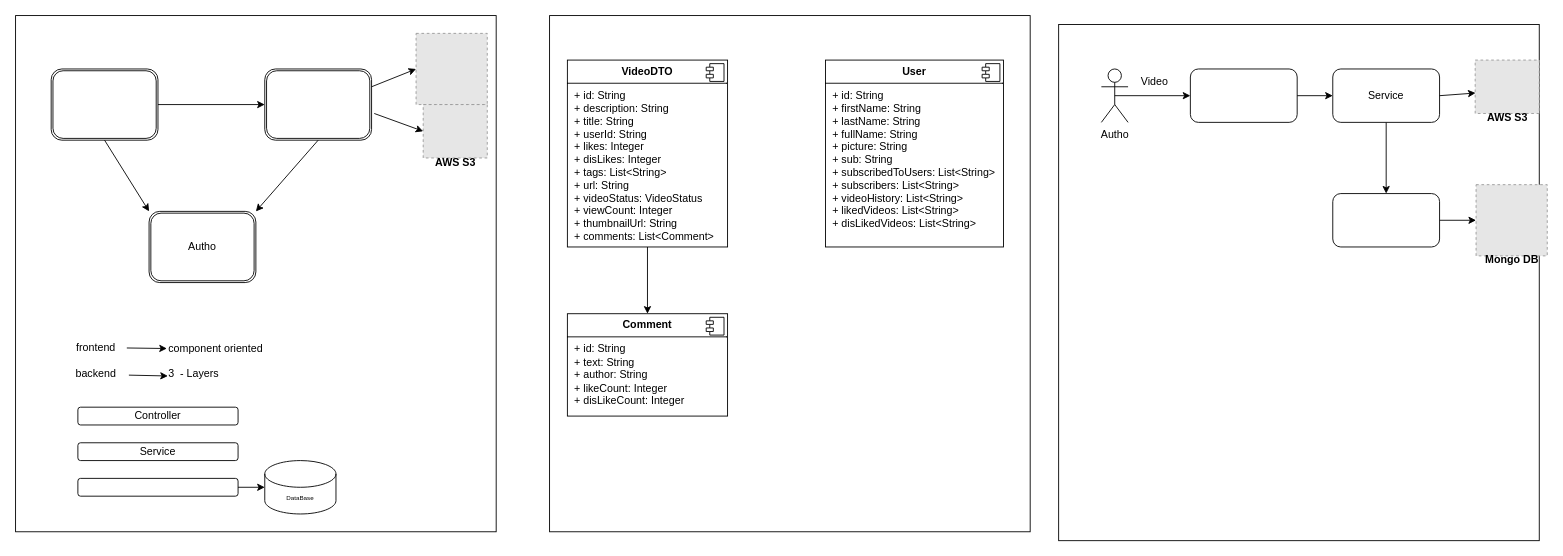
The diagram is 1563 pixels wide and 556 high, and some of its shapes have lost their labels. Grey dashed boxes stand in for pictures. The centre of each missing label's shape, as x and y in pixels:
Angular: pixel 104 104
Persistence: pixel 157 486
Repository: pixel 1386 220
Rest API Controller: pixel 1243 95
Spring Boot: pixel 318 104
